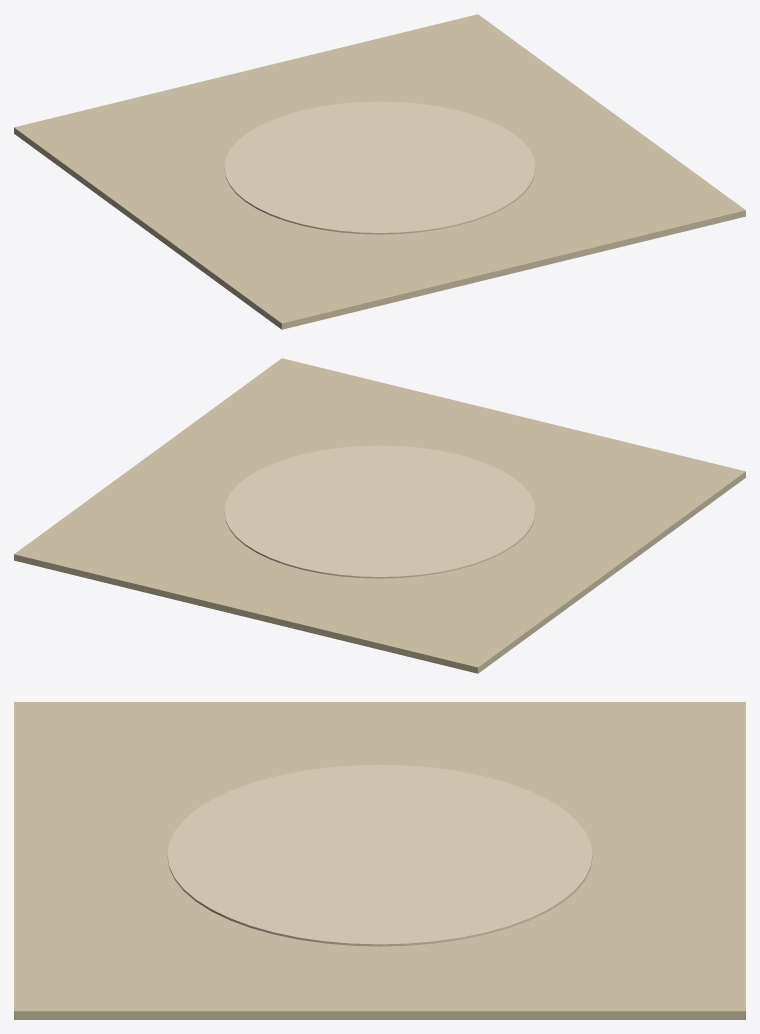
File: RecordSleeveCream.fbx
3 renders of one model, top to bottom at view 1: azimuth 30°, elevation 25°; view 2: azimuth 150°, elevation 25°; view 3: azimuth 270°, elevation 25°, orthographic. The views are drawn at different scales.
Parts seen in each view (by area): view 1: RecordSleeveCream; view 2: RecordSleeveCream; view 3: RecordSleeveCream.
Part boxes in pixels (bbox=[...]): RecordSleeveCream: bbox=[14, 14, 745, 329]; RecordSleeveCream: bbox=[14, 358, 745, 673]; RecordSleeveCream: bbox=[14, 702, 745, 1019].
Size of the model in its own units: 31 by 0.5 by 31.
